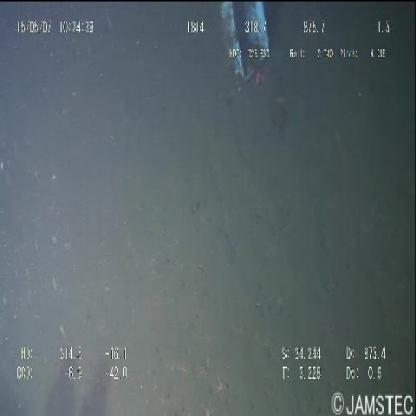Rác: (216, 1, 274, 88)
